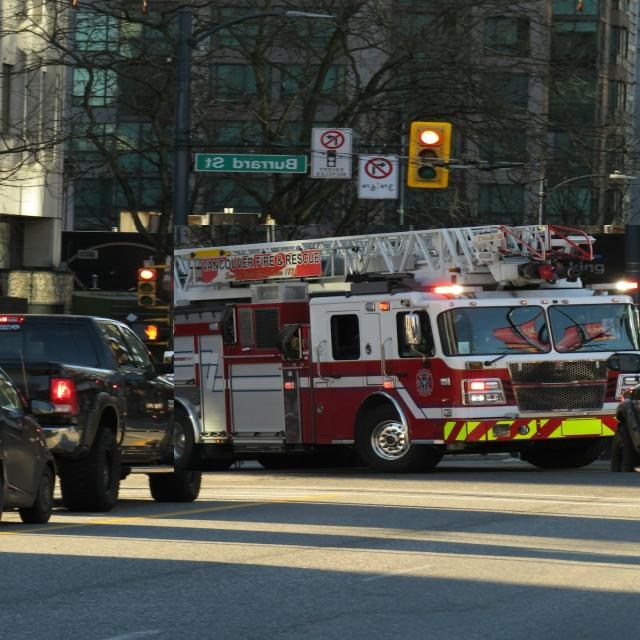car: (0, 315, 205, 511)
emergency: (174, 225, 640, 472)
